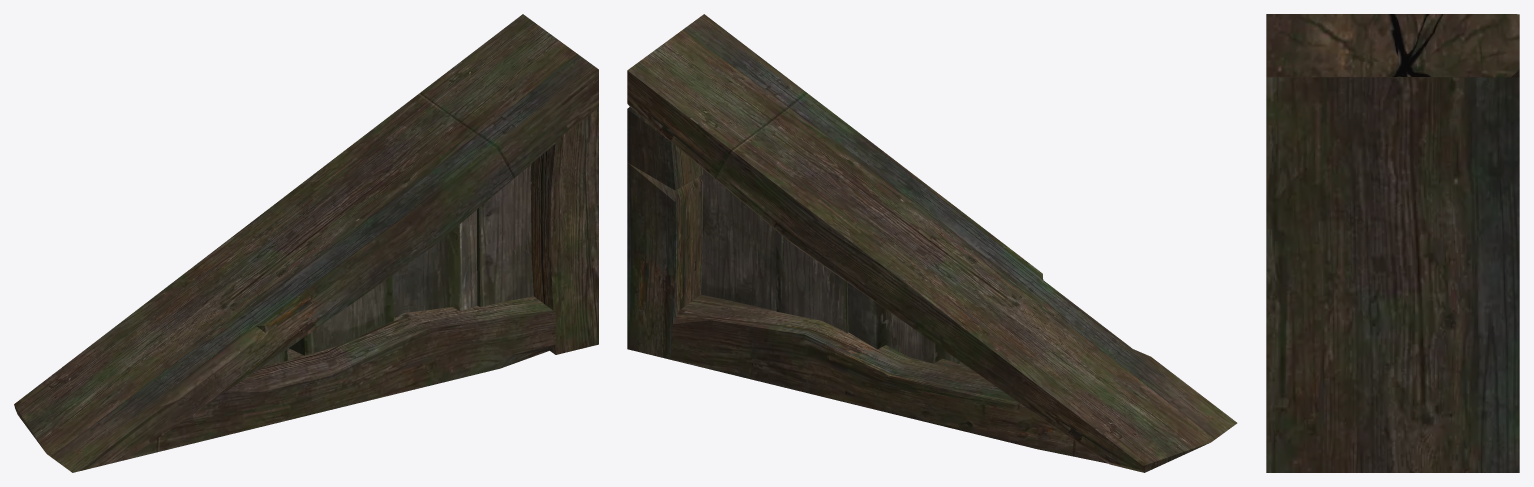
3 views of the same model, side by side, from view 1: azimuth 30°, elevation 25°; view 2: azimuth 150°, elevation 25°; view 3: azimuth 270°, elevation 25° (orthographic). The views are drawn at different scales.
Visible parts, largest first — view 1: SM_BB_T1_Wall_Slanted_Med_Shallow_LOD0; view 2: SM_BB_T1_Wall_Slanted_Med_Shallow_LOD0; view 3: SM_BB_T1_Wall_Slanted_Med_Shallow_LOD0.
Boxes of the visible parts, box(x1,y1,x2,y2) form: SM_BB_T1_Wall_Slanted_Med_Shallow_LOD0: box(14, 14, 598, 472); SM_BB_T1_Wall_Slanted_Med_Shallow_LOD0: box(627, 14, 1237, 472); SM_BB_T1_Wall_Slanted_Med_Shallow_LOD0: box(1266, 14, 1519, 472).
Size of the model in its own units: 1.5 by 0.7498 by 0.375.
Materials: 2 (2 with a texture image).
